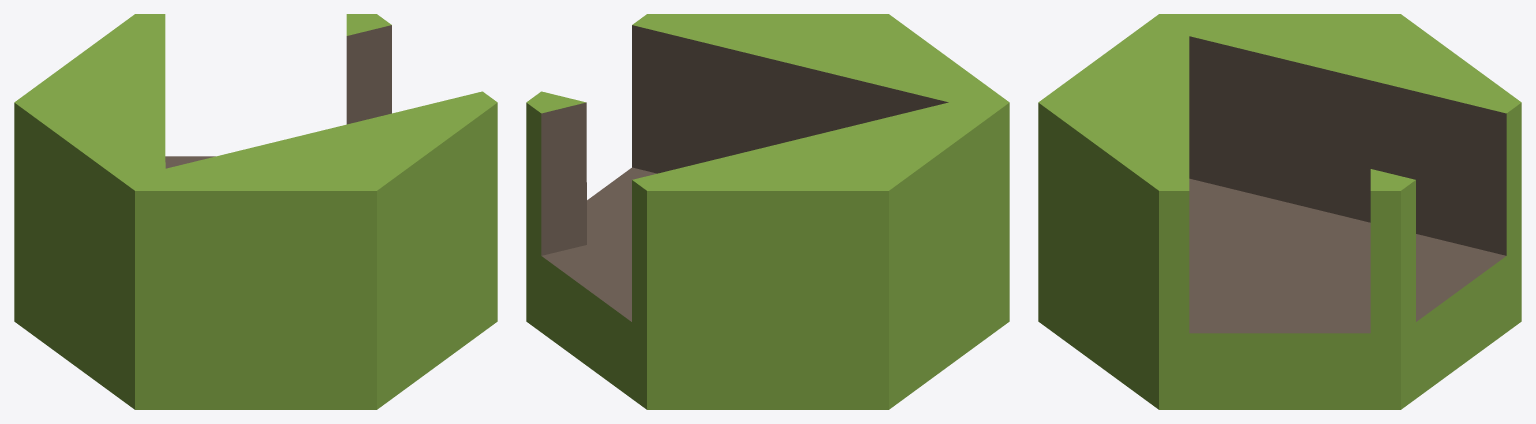
The model's file is moat3.fbx.
The picture shows the model from 3 angles, left to right: view 1: azimuth 30°, elevation 25°; view 2: azimuth 150°, elevation 25°; view 3: azimuth 270°, elevation 25°; orthographic projection.
Visible parts, largest first — view 1: Cylinder; view 2: Cylinder; view 3: Cylinder.
Part boxes in pixels (x1=…): Cylinder: x1=14, y1=14, x2=497, y2=409; Cylinder: x1=526, y1=14, x2=1009, y2=409; Cylinder: x1=1038, y1=14, x2=1521, y2=409.
Bounding box in the file's own units: 1.73 × 1 × 2.
